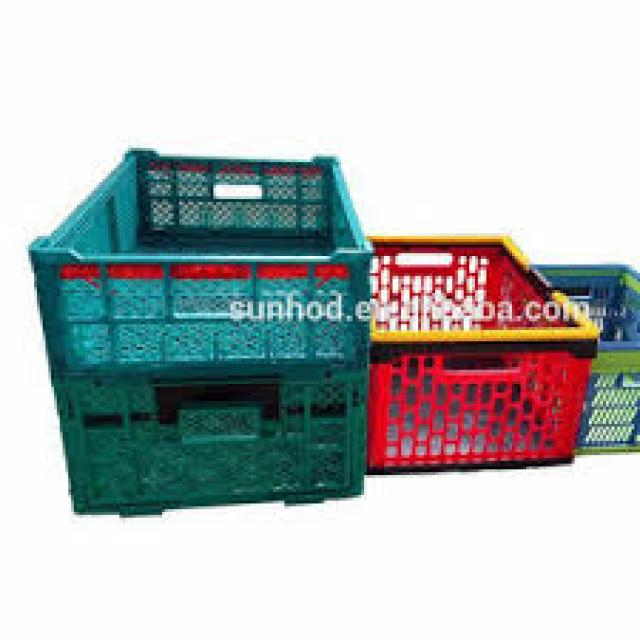basket: (23, 128, 396, 523), (370, 238, 601, 476), (535, 265, 640, 344), (580, 375, 640, 448)
